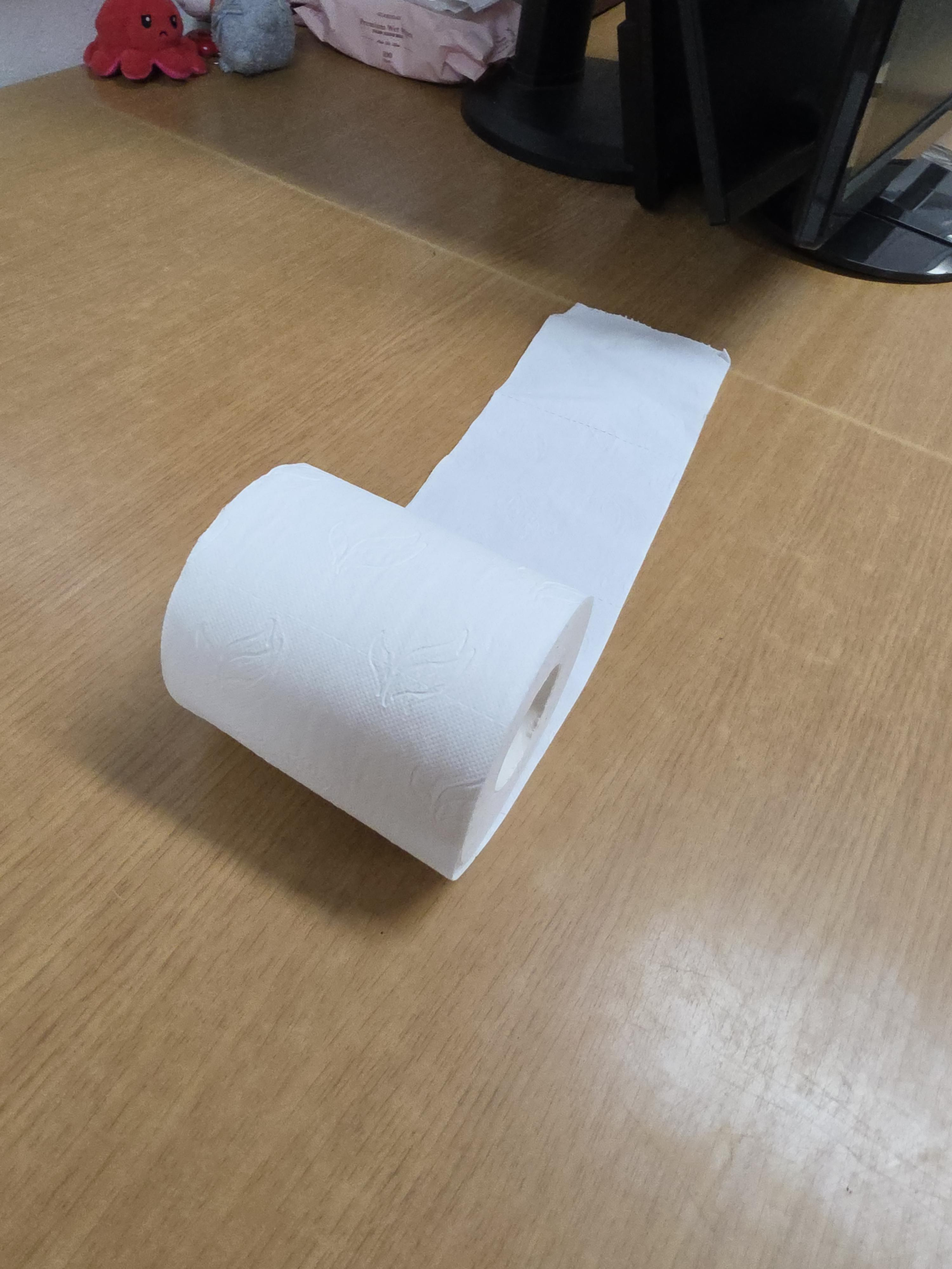tissue: (159, 302, 730, 882)
